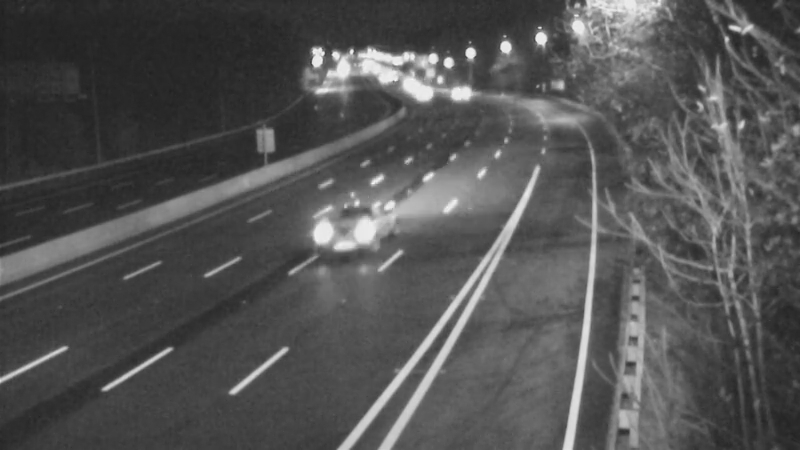vehicle: (310, 187, 390, 267), (392, 66, 442, 116), (429, 62, 479, 112)
